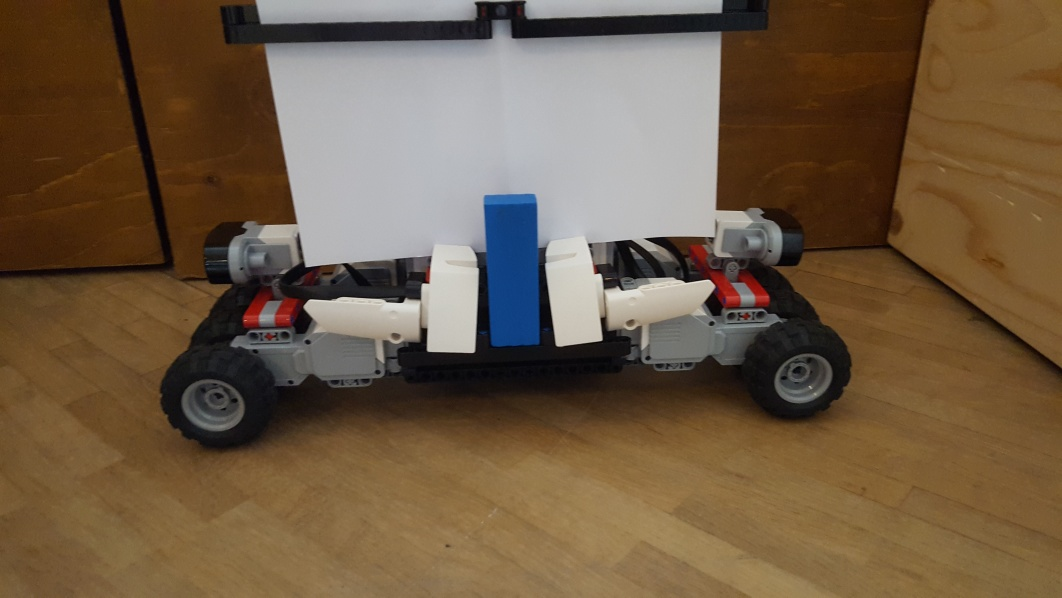car: (158, 3, 853, 451)
